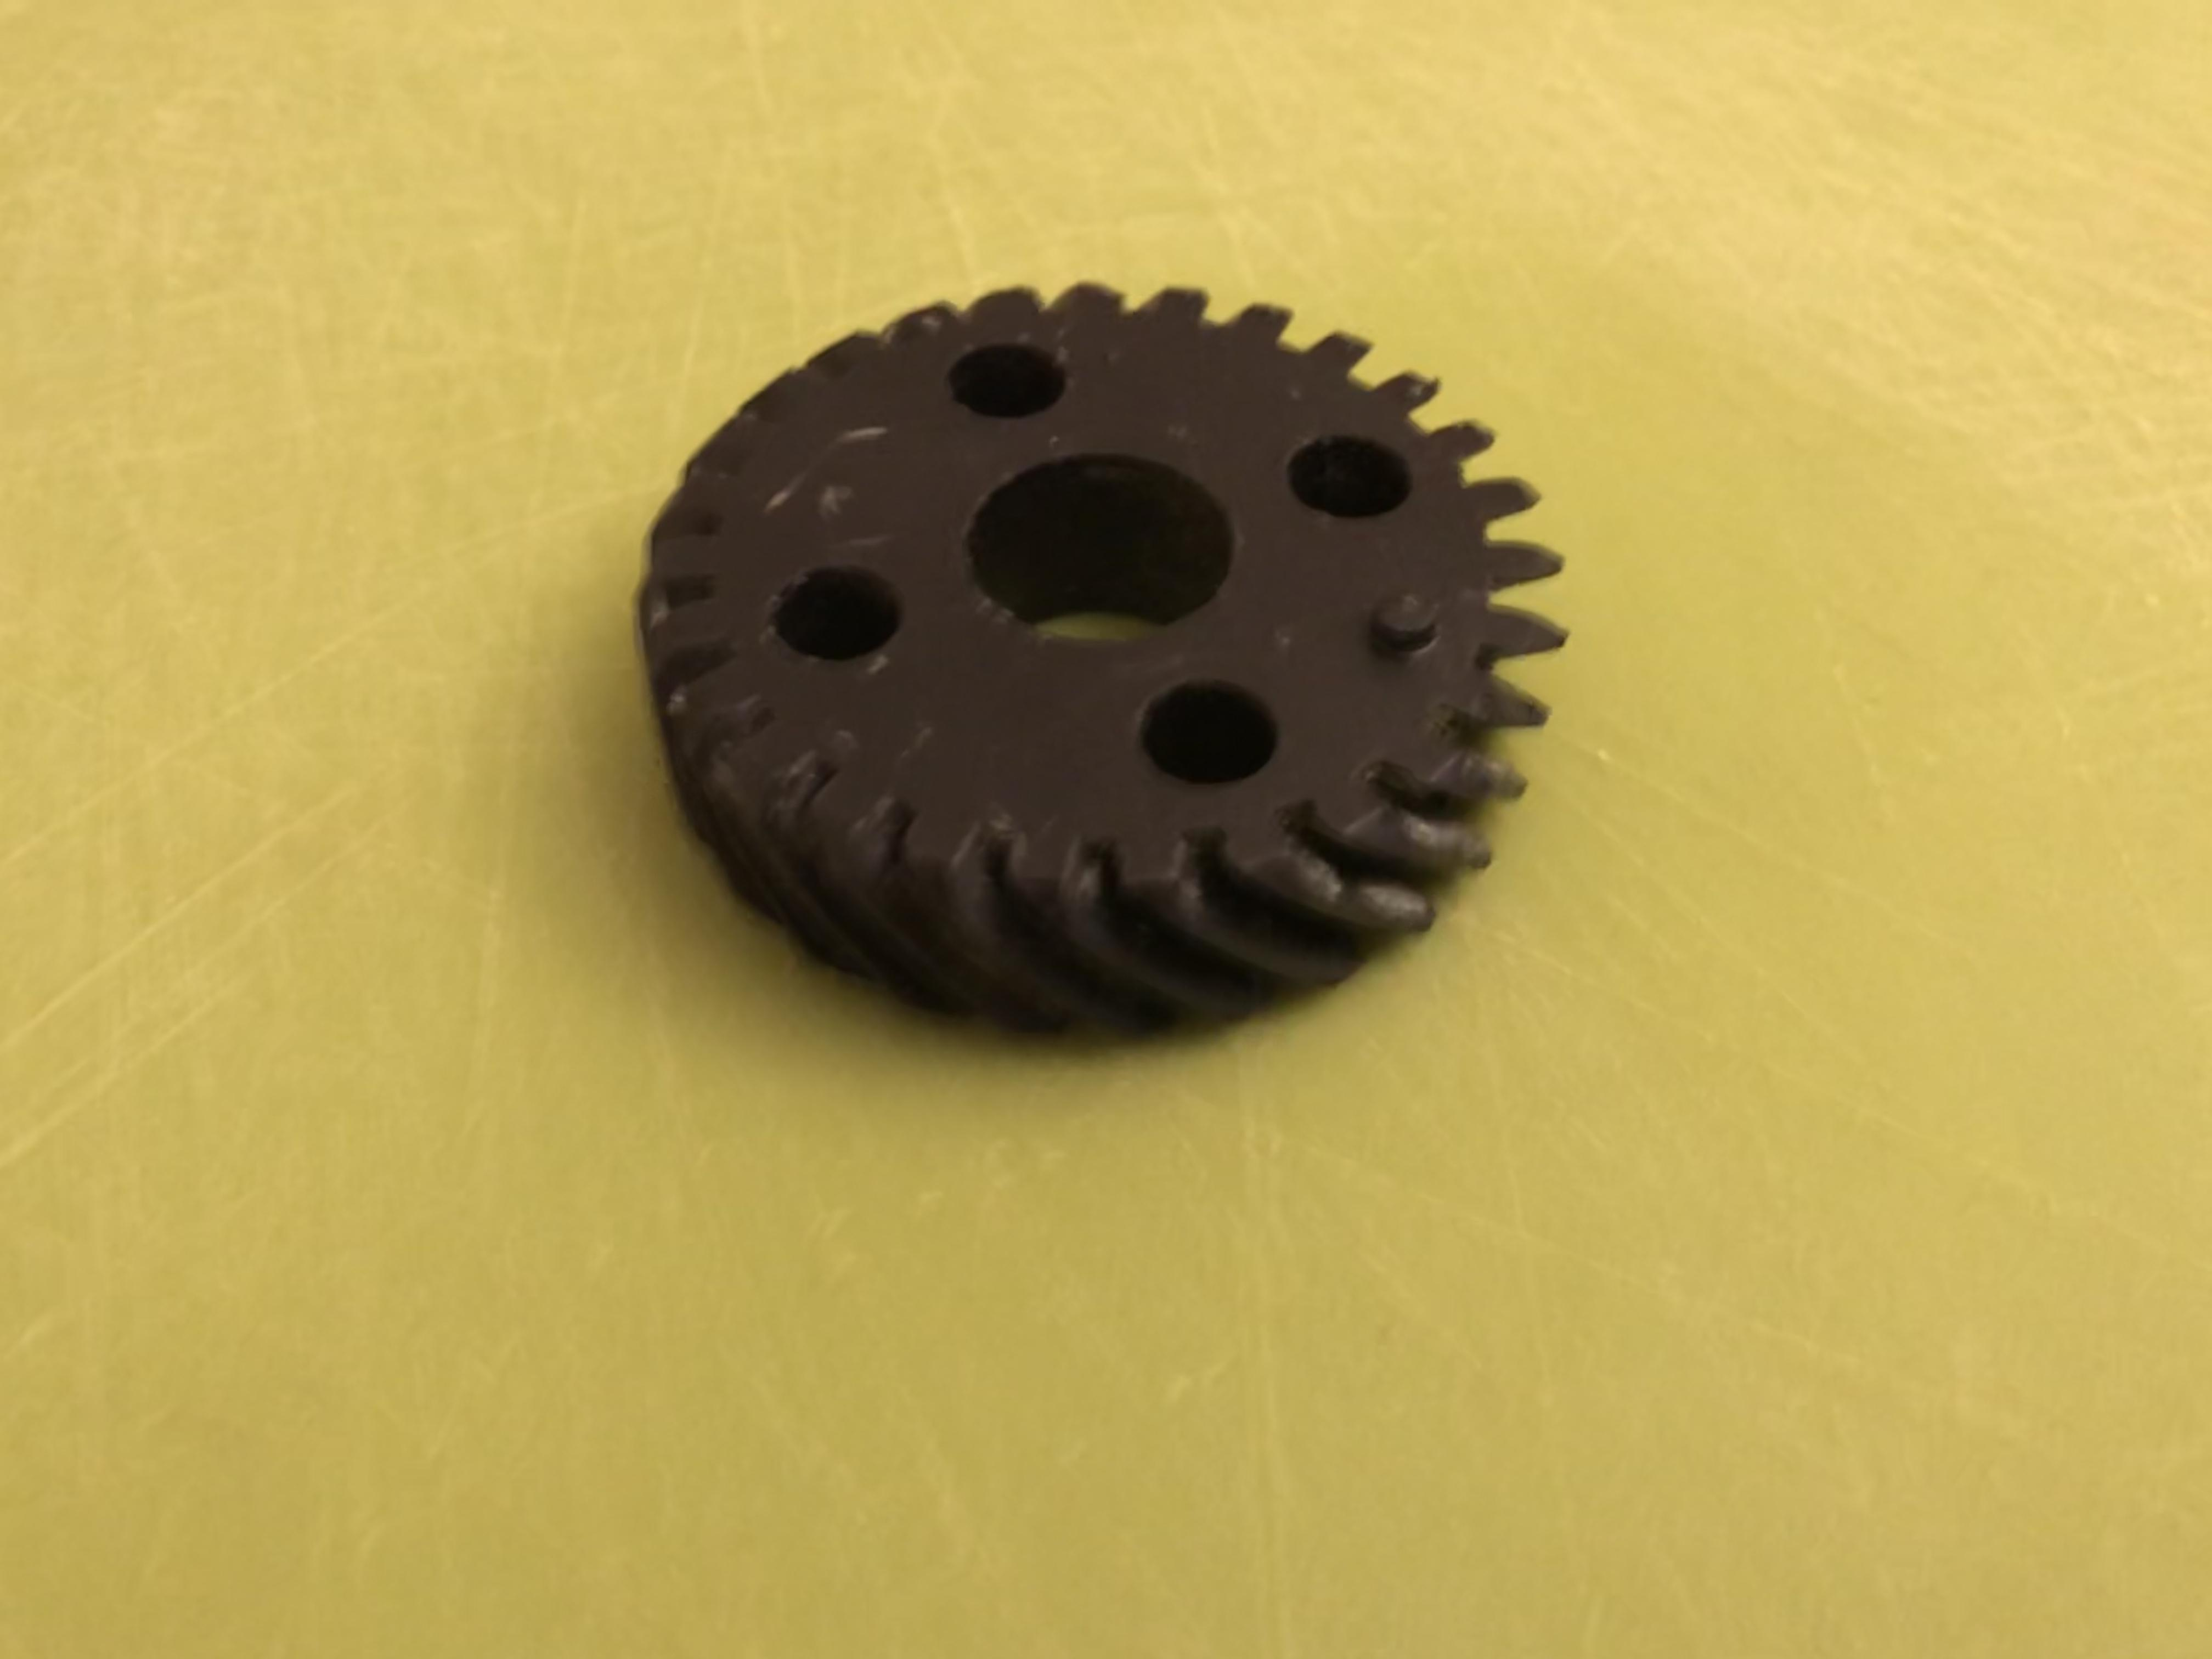Wheel: (634, 279, 1573, 1053)
